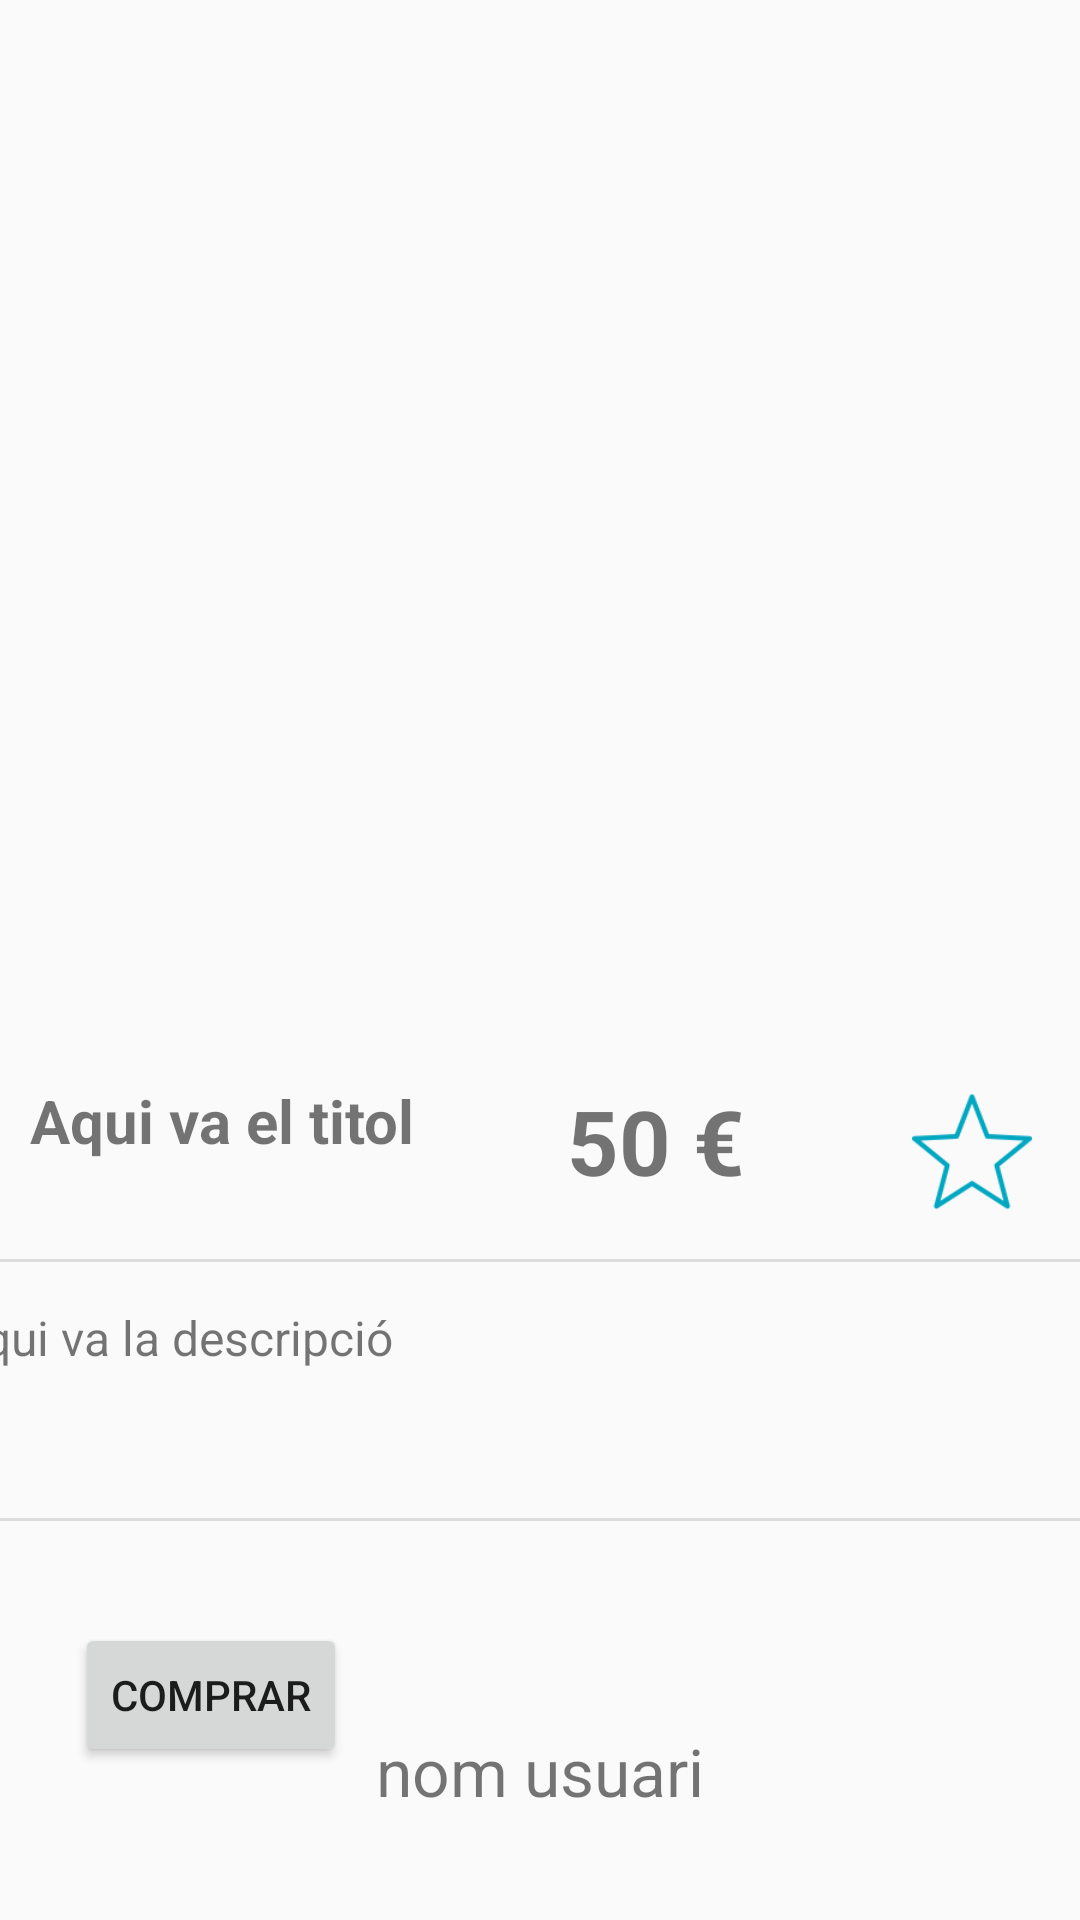

Named icons in this screenshot (1080×1920) and their bounding boxes, [x1, y1, x2, y2]:
star not: [912, 1094, 1032, 1209]
